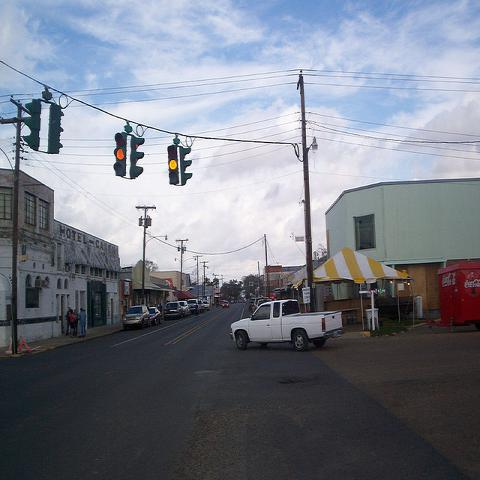car: (123, 306, 152, 330), (163, 302, 183, 320), (148, 307, 162, 326), (255, 298, 272, 311), (187, 299, 200, 315), (178, 301, 189, 316), (197, 300, 205, 312), (203, 300, 210, 311), (222, 299, 229, 309), (248, 300, 255, 310)
truck: (230, 298, 346, 351), (252, 298, 270, 311), (188, 299, 200, 314)
